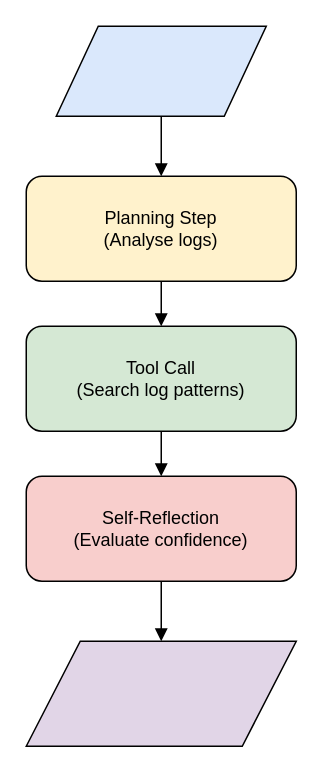
Image size: 323x773. Some labels were removed from this diagram. Here are the shapes that lost their labels. From the top down, the centre of each, then its label:
At pixel 160 70: "CI/CD Logs".
At pixel 160 693: "Final Output (Failure Classification)".
